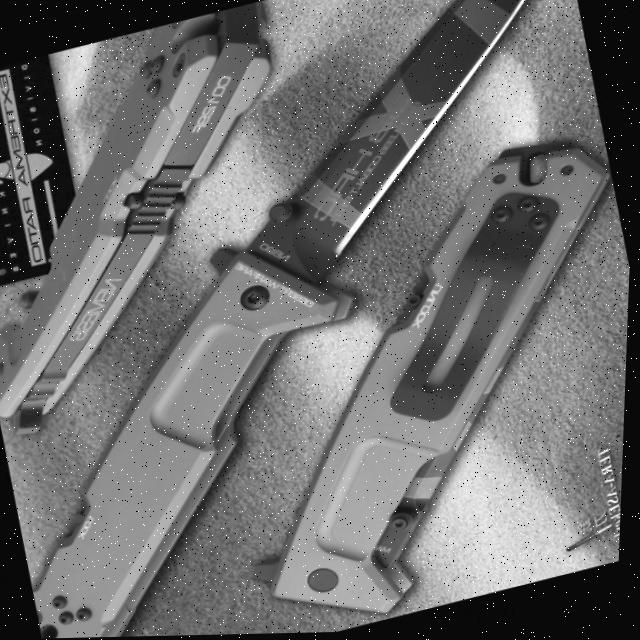knife: (0, 0, 640, 640), (166, 122, 636, 637), (0, 0, 354, 443)
